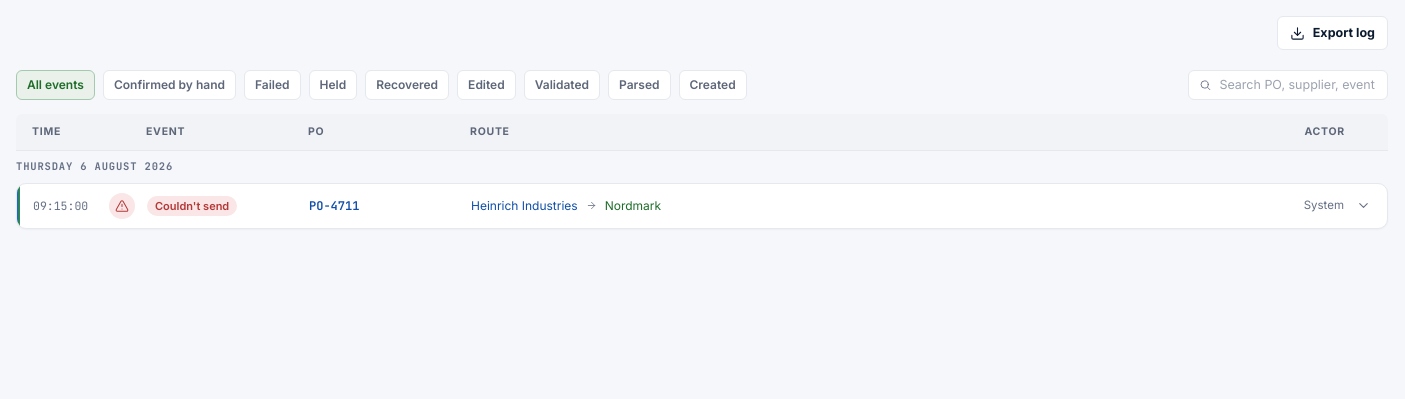
CrossingsLog — a backend failure action renders as a failure › offers 'Open to resend' on a failure row — the control could never render before
The width and height of the screenshot is (1405, 399).
# Expand the row (the actions live in the expanded panel).
Click the button that starts with "Couldn't send" at {"x": 61, "y": 205}, box [17,184,1387,228]
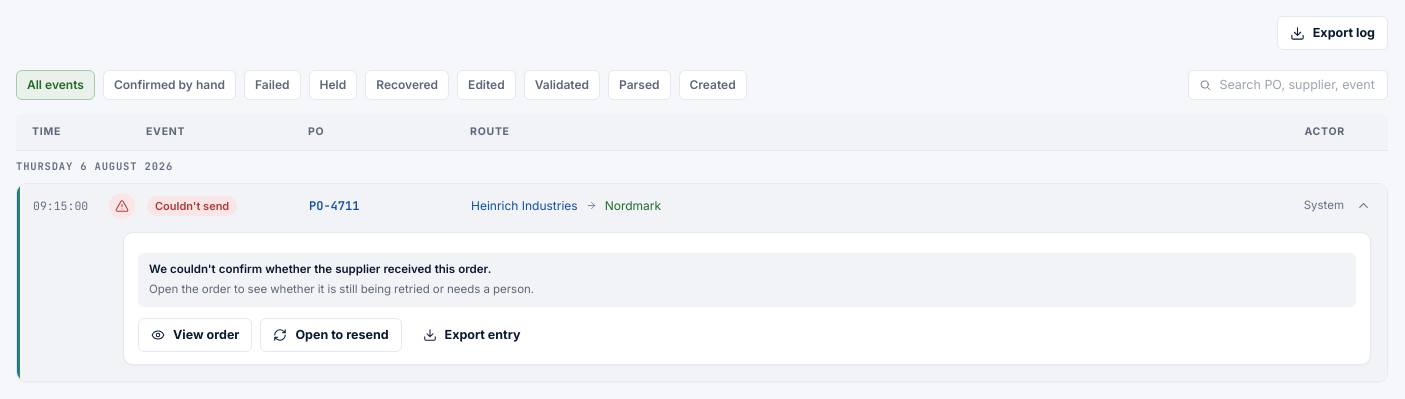
Expected: the button "Open to resend" is shown, [260,318,402,352]
